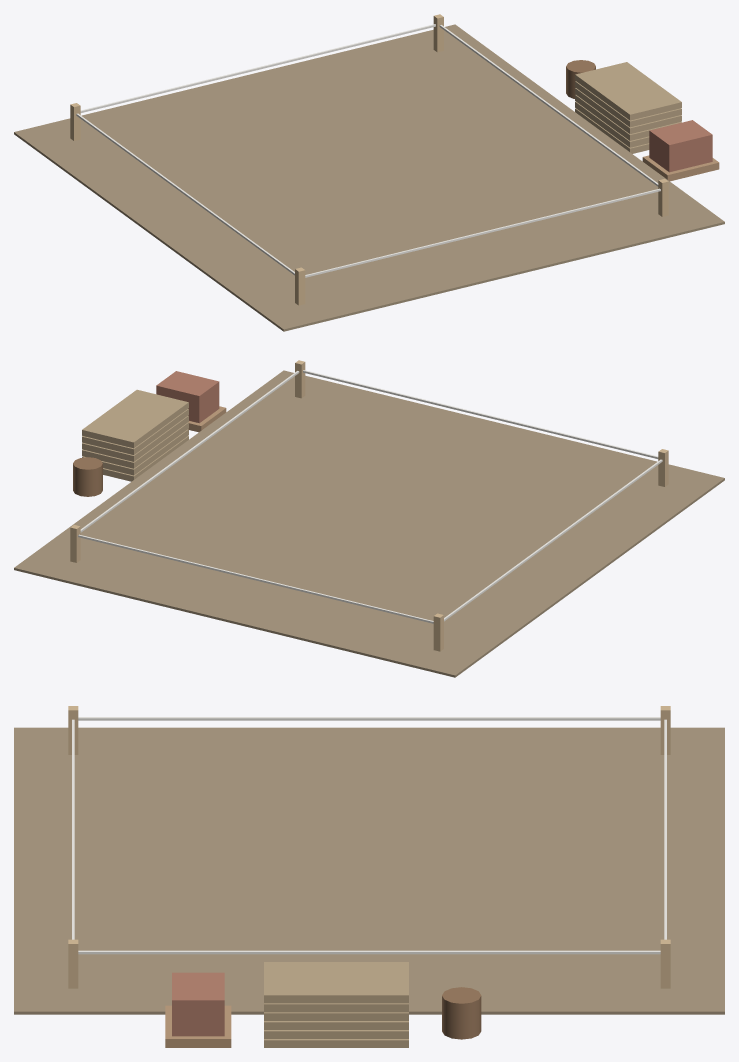
The model's file is bakery_site_0.glb.
3 renders of one model, top to bottom at view 1: azimuth 30°, elevation 25°; view 2: azimuth 150°, elevation 25°; view 3: azimuth 270°, elevation 25°, orthographic. The views are drawn at different scales.
Parts seen in each view (by area): view 1: body; view 2: body; view 3: body.
Part boxes in pixels (left/top/right/bottom): body: left=14, top=14, right=724, bottom=331; body: left=14, top=360, right=724, bottom=677; body: left=14, top=706, right=724, bottom=1047.
Bounding box in the file's own units: 2.28 × 0.176 × 2.16.
